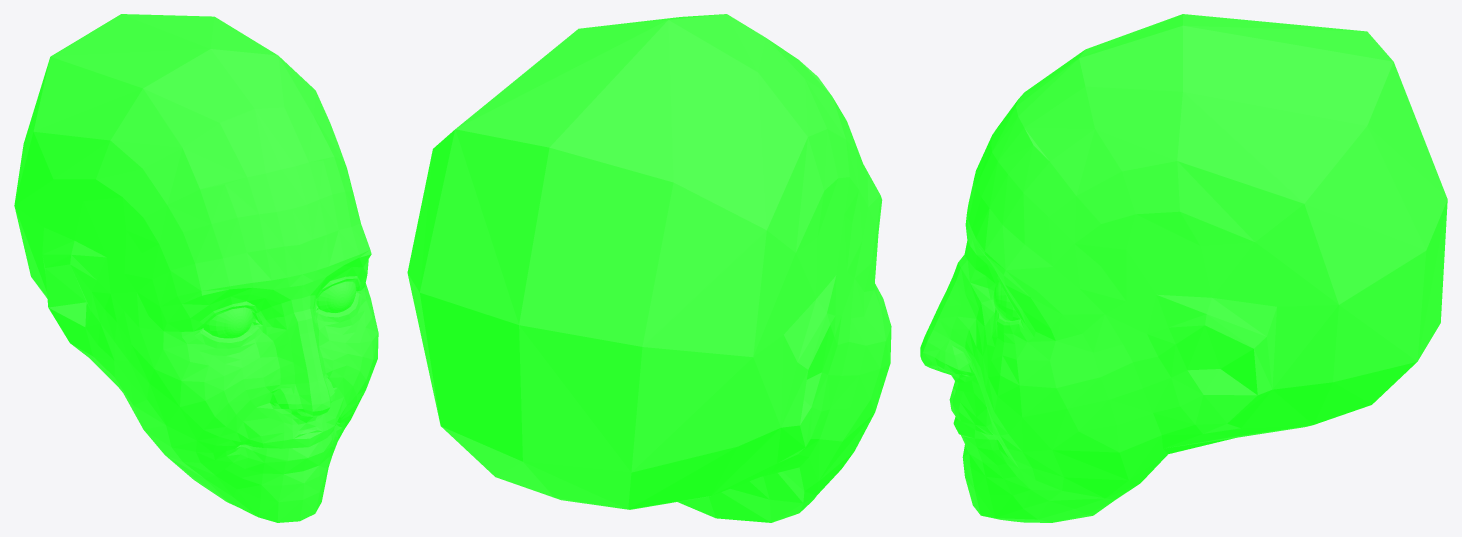
Rendered from WrestlingIntro_face_P_jgbZmX.fbx.
The picture shows the model from 3 angles, left to right: view 1: azimuth 30°, elevation 25°; view 2: azimuth 150°, elevation 25°; view 3: azimuth 270°, elevation 25°; orthographic projection. The views are drawn at different scales.
Visible parts, largest first — view 1: face; view 2: face; view 3: face.
Part boxes in pixels (left/top/right/bottom): face: left=14, top=14, right=378, bottom=522; face: left=407, top=14, right=891, bottom=522; face: left=920, top=14, right=1447, bottom=522.
Bounding box in the file's own units: 16.29 × 23.72 × 23.32.
